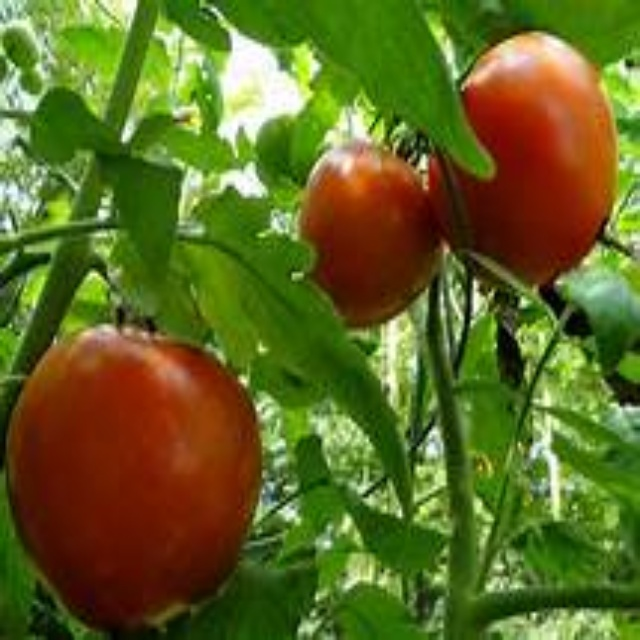tomato: (11, 322, 260, 618), (425, 32, 619, 282), (291, 145, 448, 323)
